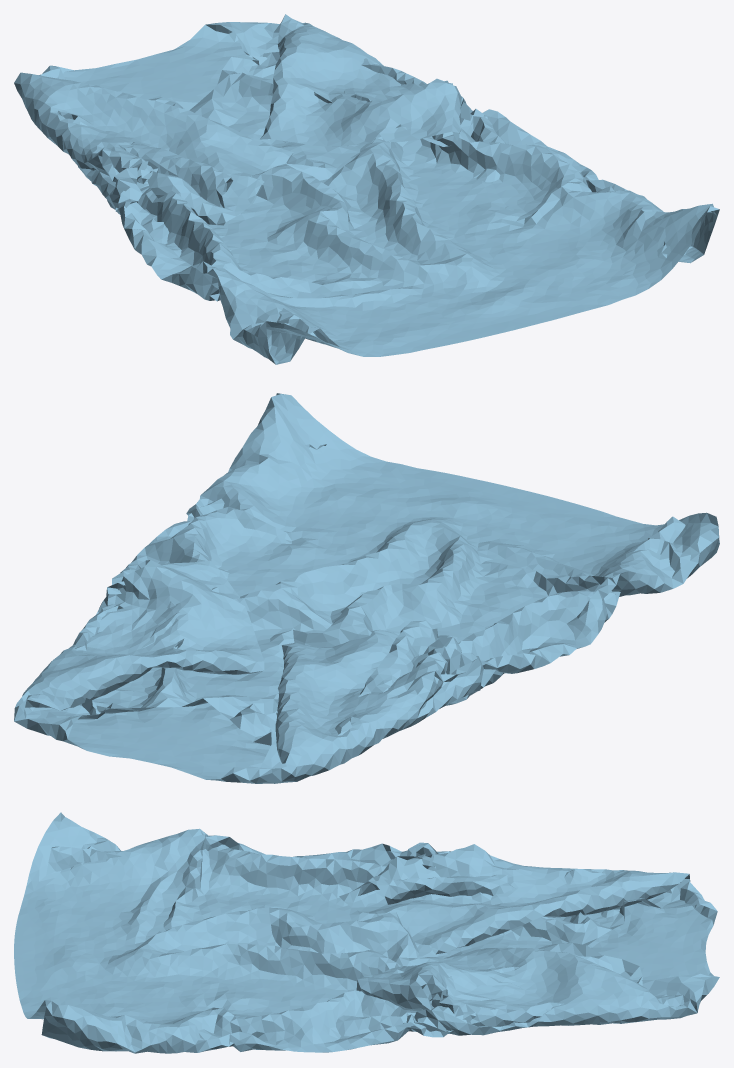
File: frame_01.glb
The picture shows the model from 3 angles, top to bottom: view 1: azimuth 30°, elevation 25°; view 2: azimuth 150°, elevation 25°; view 3: azimuth 270°, elevation 25°; orthographic projection. The views are drawn at different scales.
Visible parts, largest first — view 1: frame_01.obj; view 2: frame_01.obj; view 3: frame_01.obj.
Part boxes in pixels (x1=…): frame_01.obj: x1=14, y1=14, x2=719, y2=364; frame_01.obj: x1=14, y1=393, x2=719, y2=783; frame_01.obj: x1=14, y1=812, x2=719, y2=1053.
Size of the model in its own units: 1.19 by 0.1602 by 1.71.
